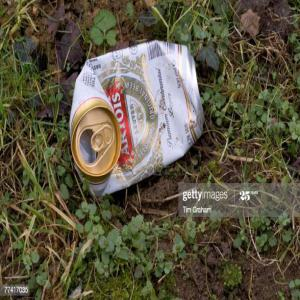Can: (69, 40, 206, 200)
